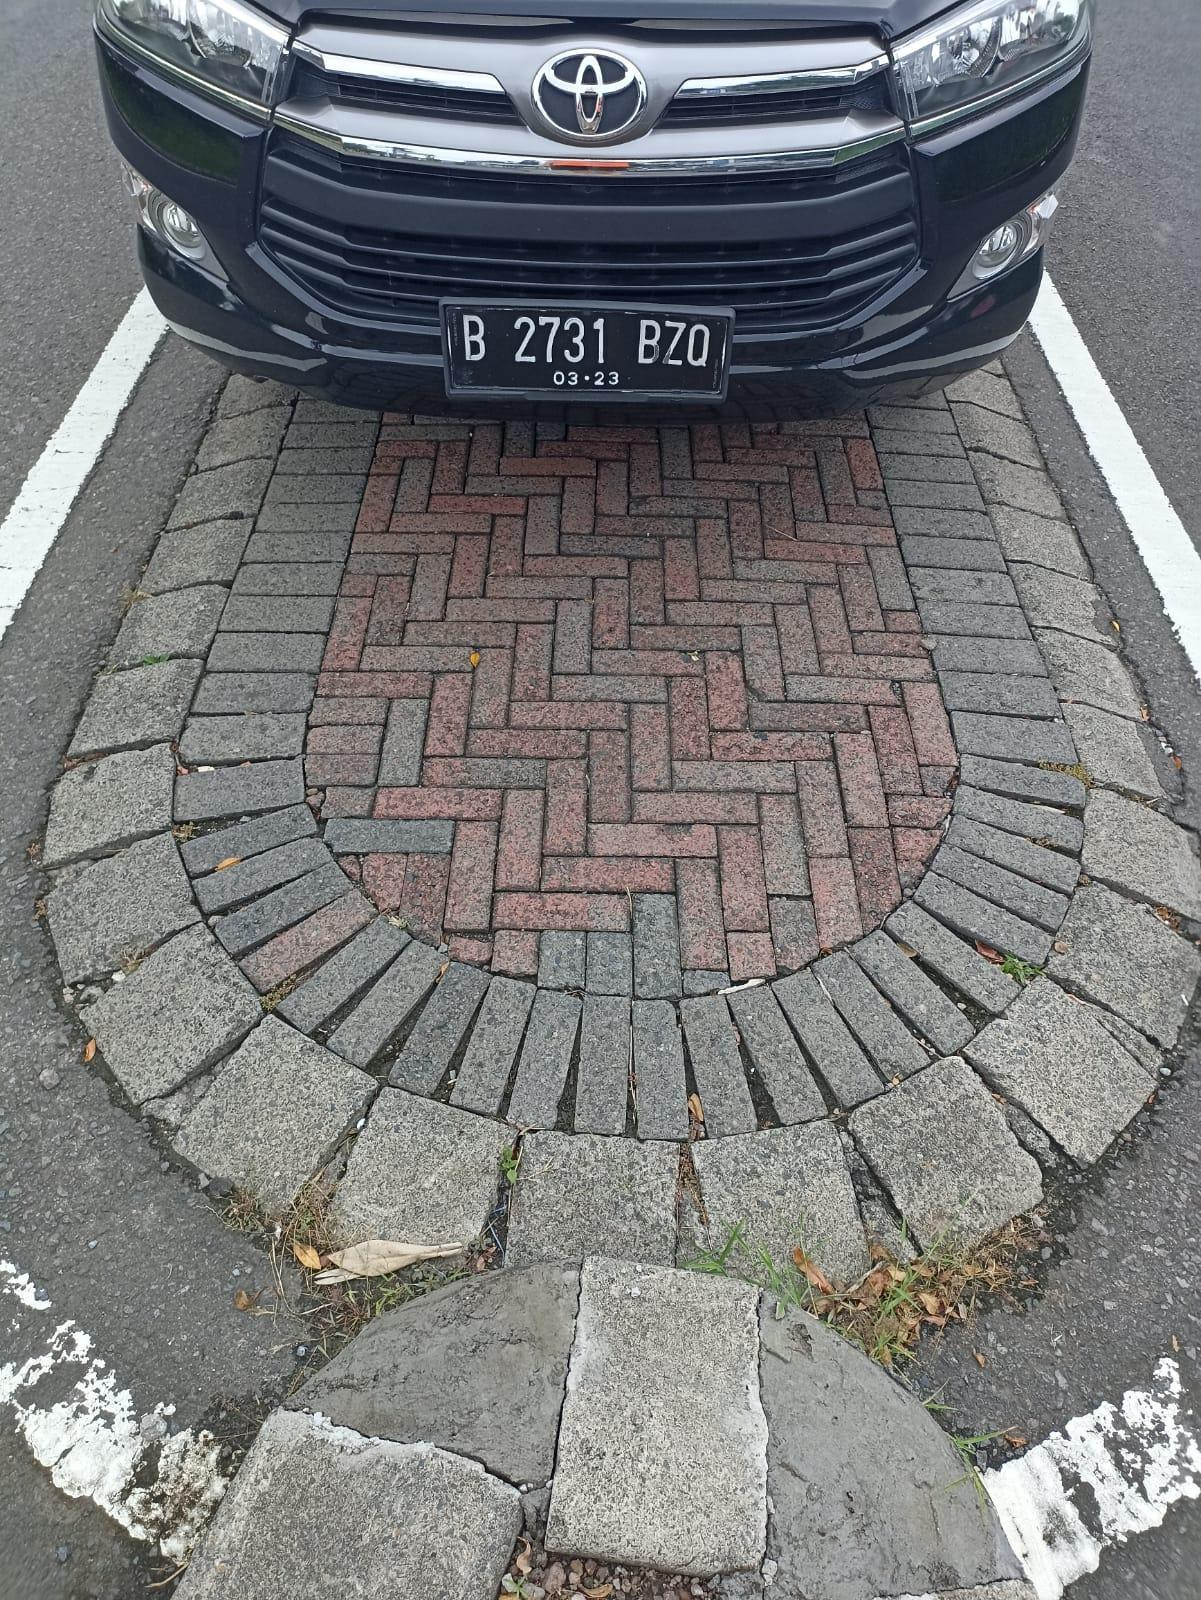plat: (445, 307, 727, 399)
